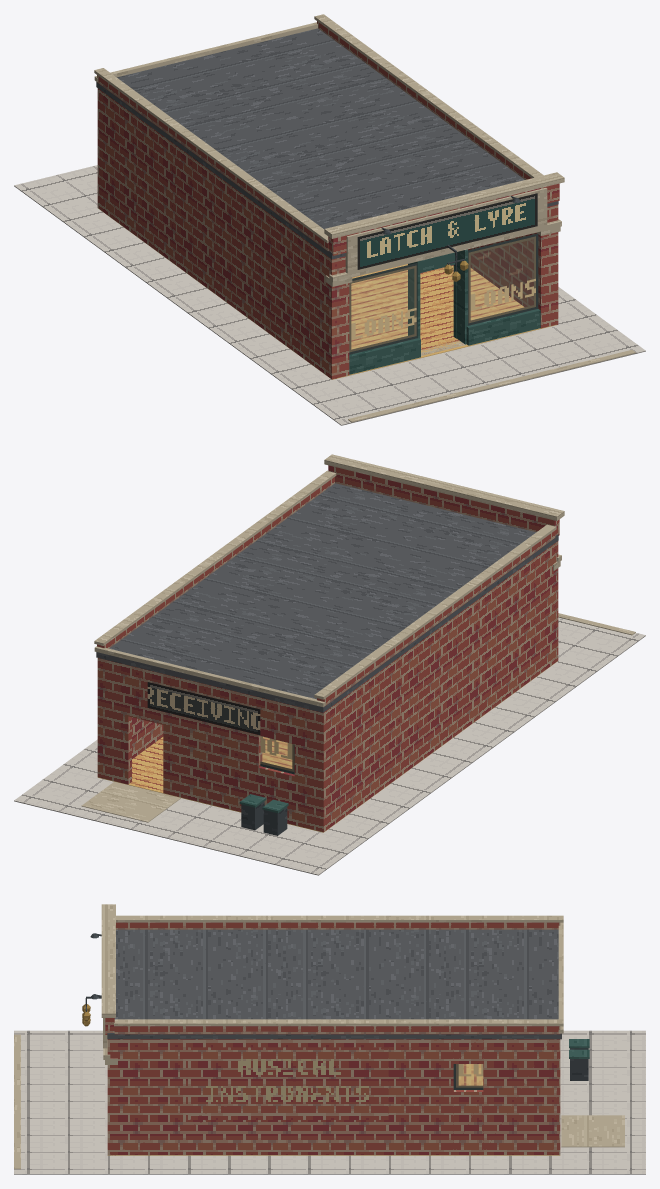
File: latch-and-lyre-1920-far.glb
3 views of the same model, one above another, from view 1: azimuth 30°, elevation 25°; view 2: azimuth 150°, elevation 25°; view 3: azimuth 270°, elevation 25° (orthographic). The views are drawn at different scales.
Visible parts, largest first — view 1: shell, lot, fixed_interior, sign_name, display_window_east, display_window_west; view 2: shell, lot, fixed_interior; view 3: shell, lot, fixed_interior.
Part boxes in pixels (<box>): shell: <box>94,14,564,379</box>; lot: <box>14,165,645,425</box>; fixed_interior: <box>98,208,556,379</box>; sign_name: <box>357,193,537,269</box>; display_window_east: <box>468,233,538,325</box>; display_window_west: <box>349,263,417,354</box>; shell: <box>94,454,564,832</box>; lot: <box>14,613,645,875</box>; fixed_interior: <box>97,661,557,832</box>; shell: <box>82,904,563,1155</box>; lot: <box>14,1030,645,1174</box>; fixed_interior: <box>107,1064,560,1155</box>.
Size of the model in its own units: 10.5 by 4.92 by 19.55.
11 materials, 11 textured.
